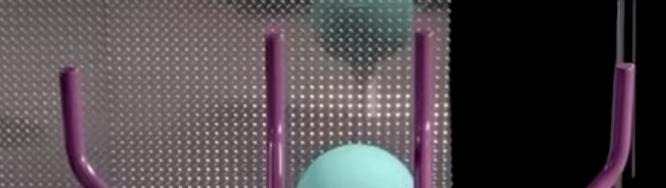algae: (296, 144, 415, 188)
